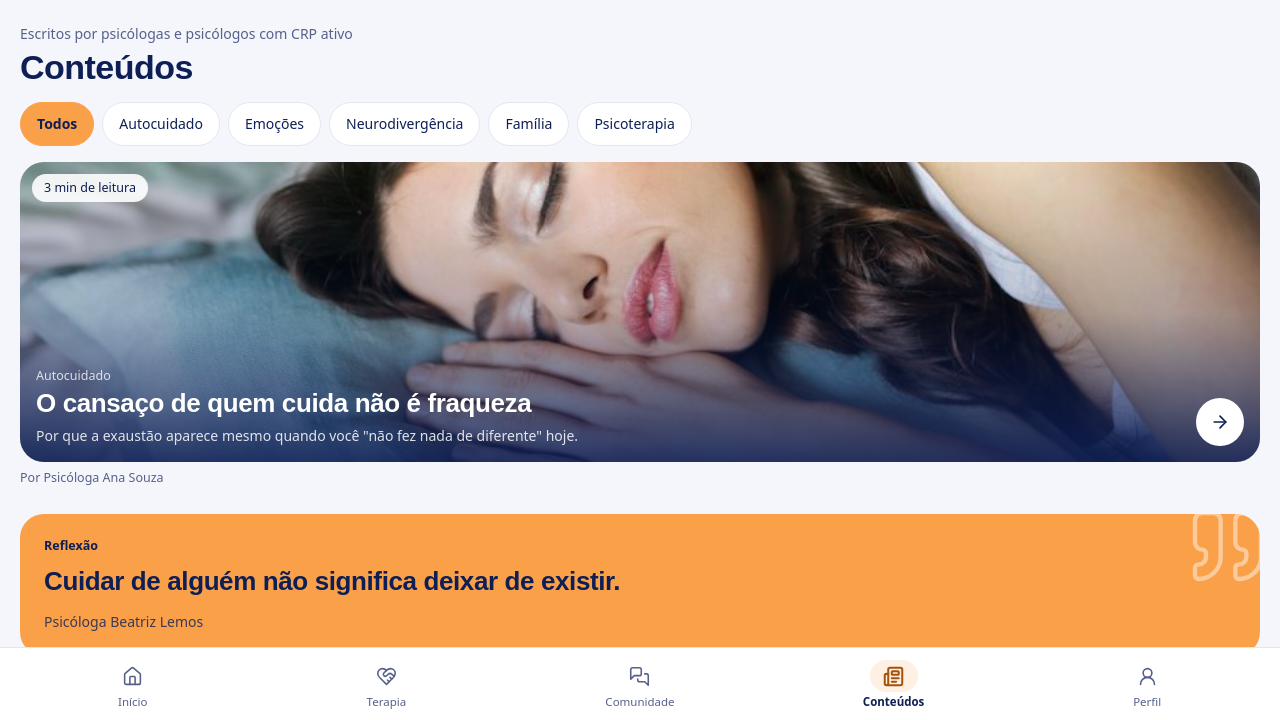
Scenario: Conteúdos em formatos variados › o que já foi lido ganha o selo e sai do destaque
The image size is (1280, 720).
Click the button that starts with "min de leitura" at (640, 312), box top-left (20, 162), bottom-right (1260, 462)
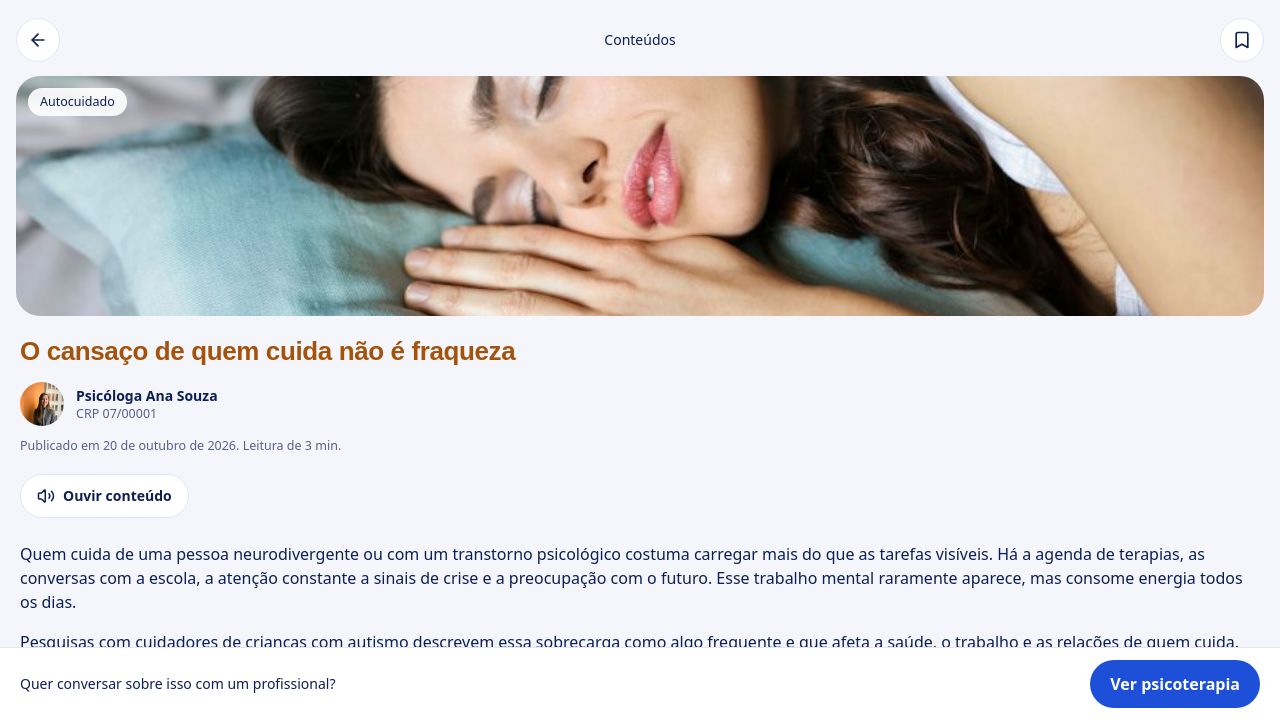
Click the button named "Voltar" at (38, 40), box top-left (16, 18), bottom-right (60, 62)
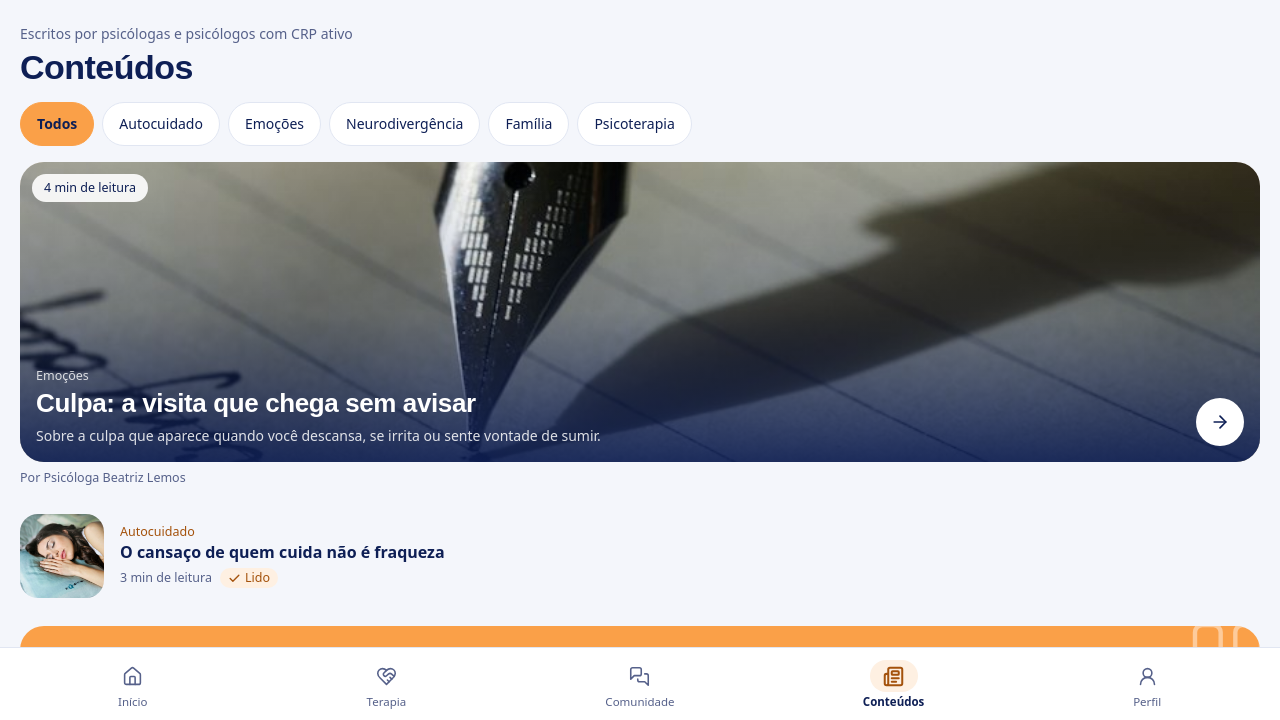
Result: the text "Lido" is shown at top-left (220, 568), bottom-right (278, 588)
